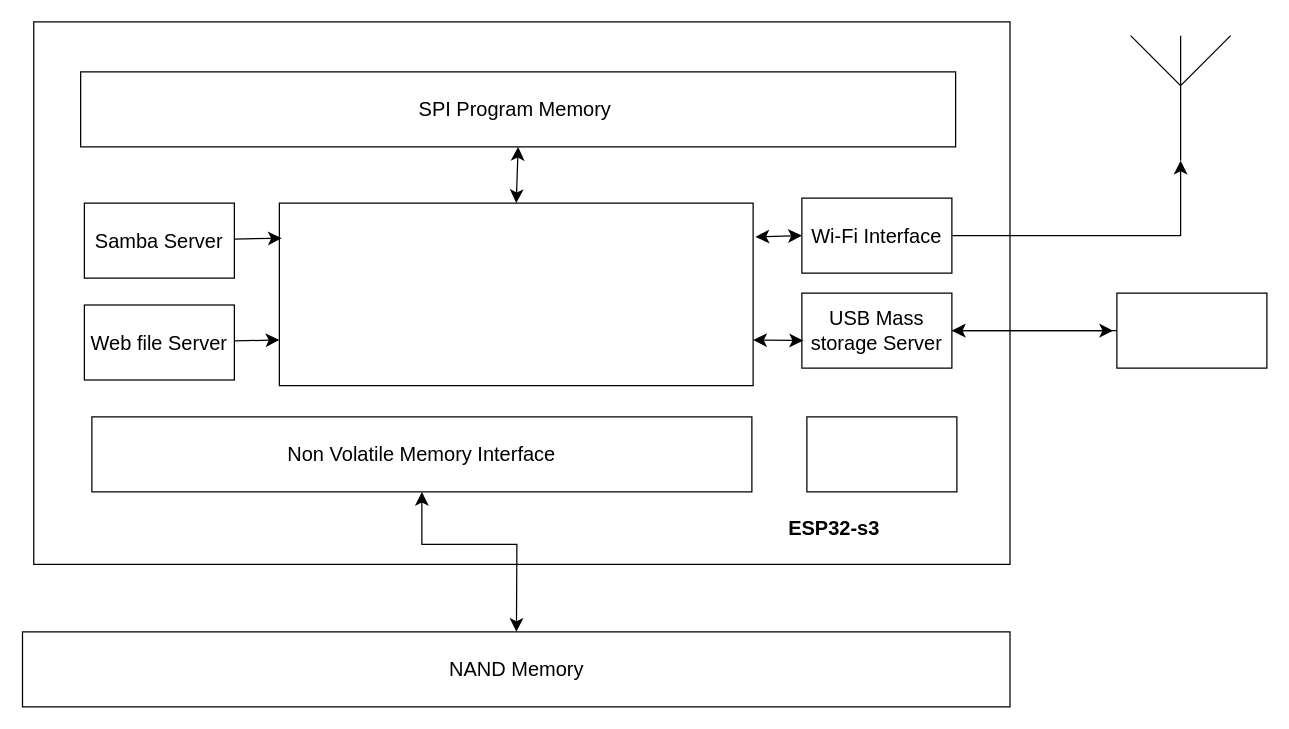
Image size: 1289x729. Some labels were removed from this diagram. The shapes that lost their labels are listed below. From the top down, each one's box as (x1, y1, x2, y2) in pixels, then its label:
(278, 202, 753, 386): Dual Core Xtensa Controller
(1116, 292, 1267, 368): Usb Interface
(806, 416, 957, 492): Power Controller
